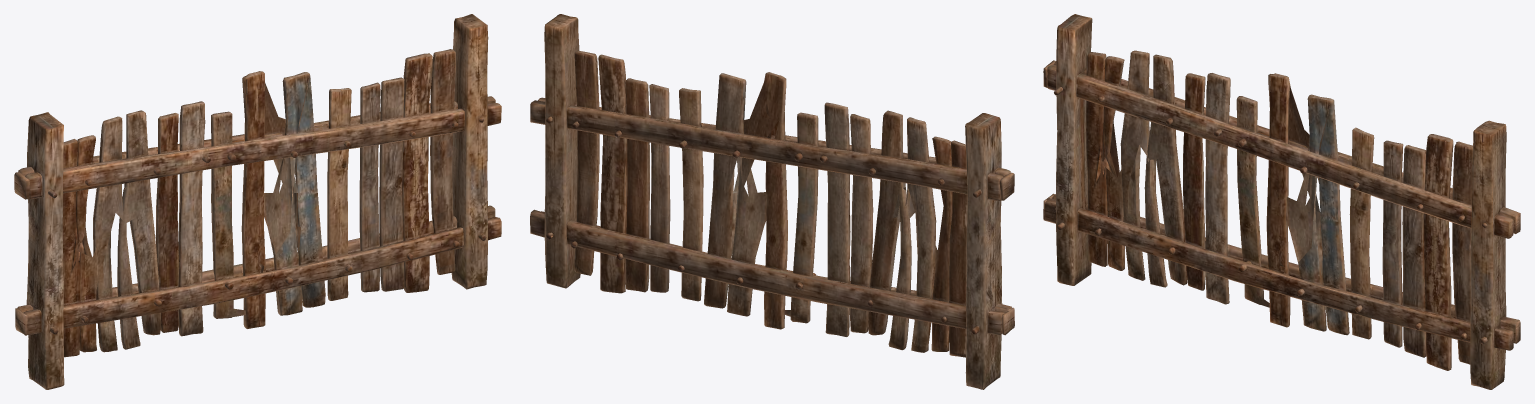
Rendered from plank_fence.glb.
3 views of the same model, side by side, from view 1: azimuth 30°, elevation 25°; view 2: azimuth 150°, elevation 25°; view 3: azimuth 330°, elevation 25° (orthographic).
Visible parts, largest first — view 1: Mesh0; view 2: Mesh0; view 3: Mesh0.
Boxes of the visible parts, x1,y1,x2,y2 form: Mesh0: (14, 14, 501, 389); Mesh0: (530, 14, 1014, 389); Mesh0: (1043, 14, 1520, 389).
Size of the model in its own units: 1 by 0.5345 by 0.1004.
1 material, 1 textured.
